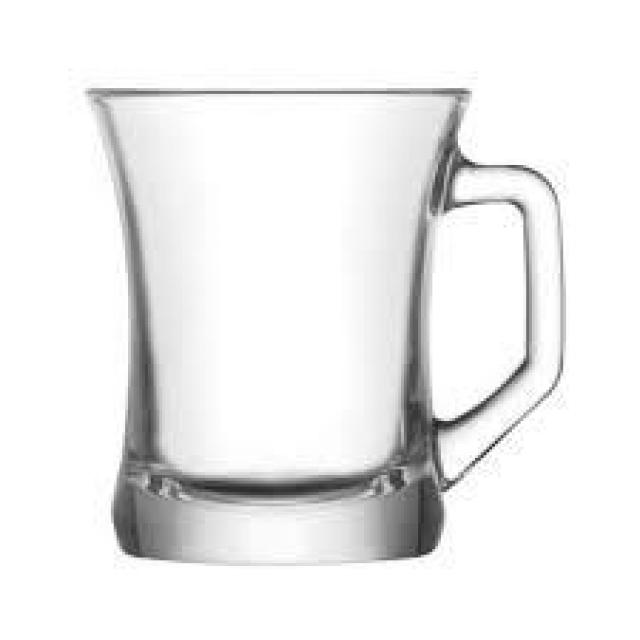non-organic waste: (82, 84, 569, 570)
